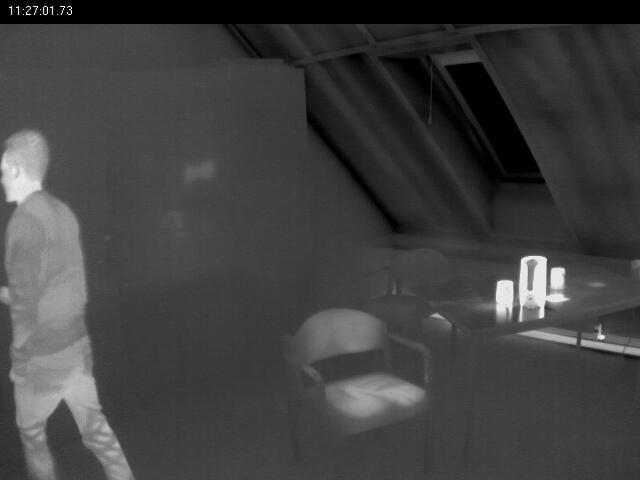person: (0, 125, 112, 476)
